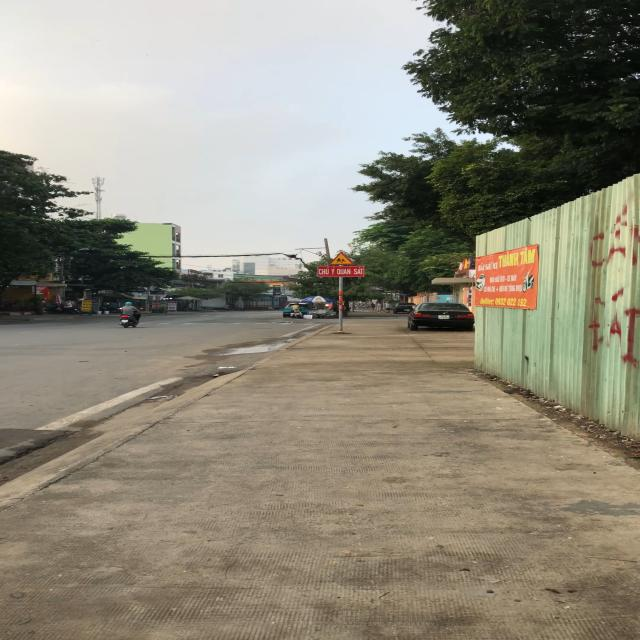Bien bao tre em: (328, 252, 353, 266)
